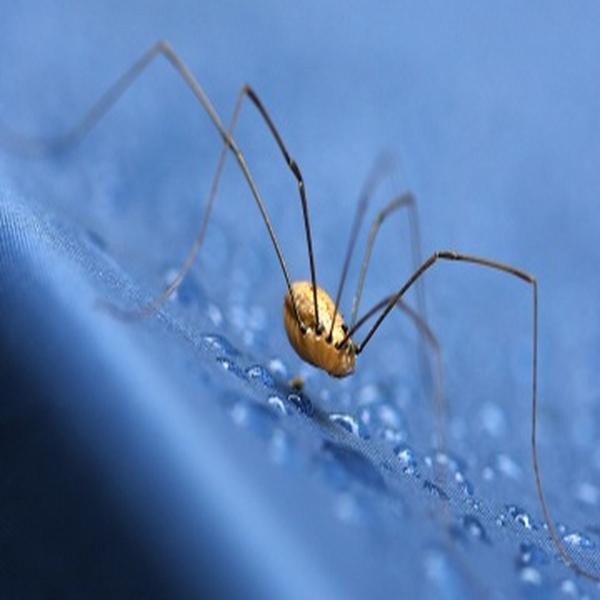Daddy Long Legs Spider: (70, 39, 572, 556)
